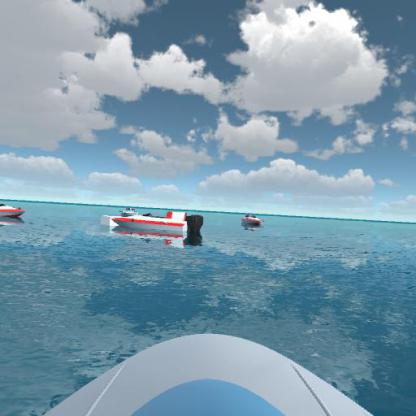usv1: (116, 201, 140, 217)
usv3: (110, 206, 207, 247), (0, 196, 28, 224), (238, 209, 265, 229)
